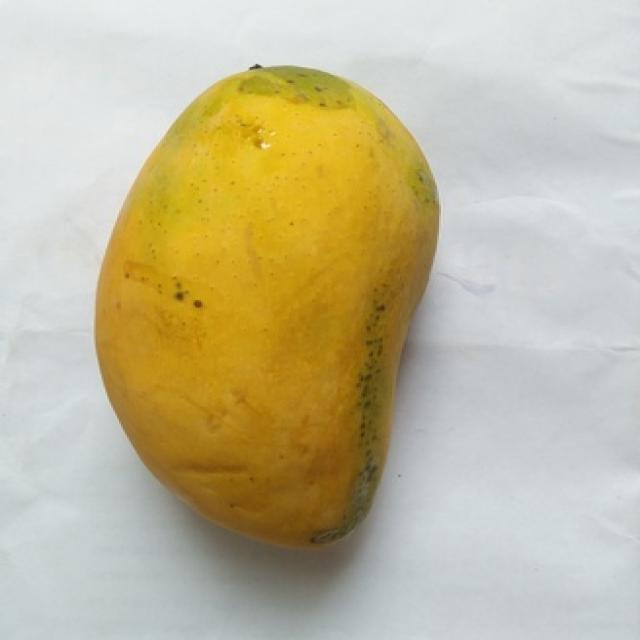Mango: (96, 67, 435, 544)
